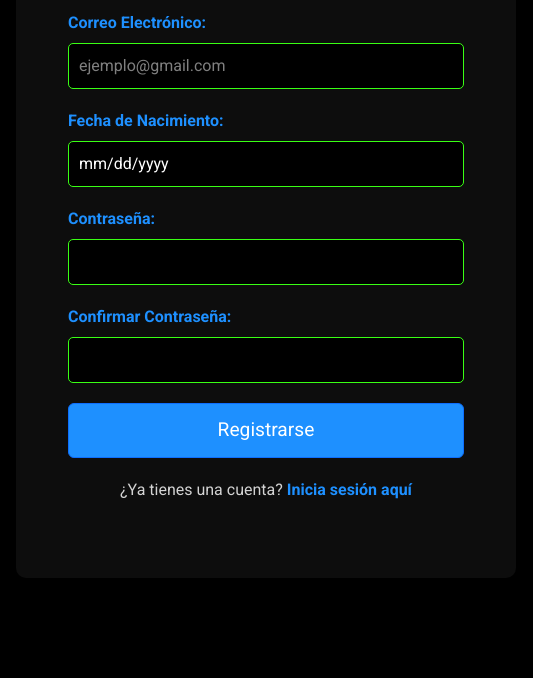
Test: RegisterPage › muestra errores de validación si los campos son inválidos
(page scrolled)
Click the button "Registrarse": (266, 430) [68,403,464,458]
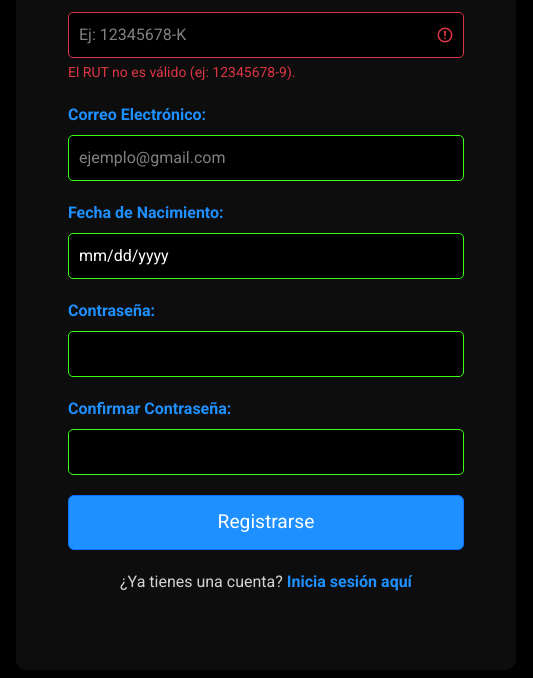
expect the text "El RUT no es válido (ej: 12345678-9)." is shown: met, box [68,64,296,80]
